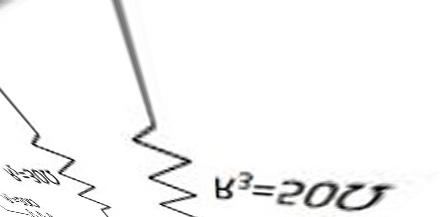resistor: (115, 105, 200, 215), (25, 128, 110, 215)
